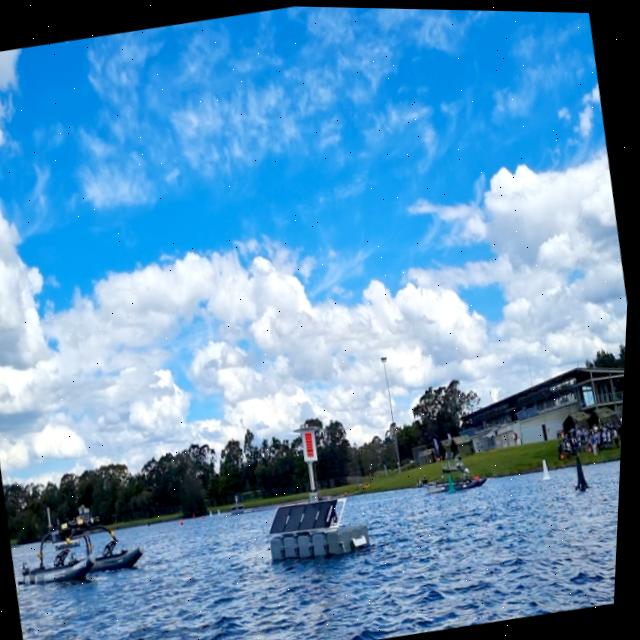led: (304, 428, 321, 459)
